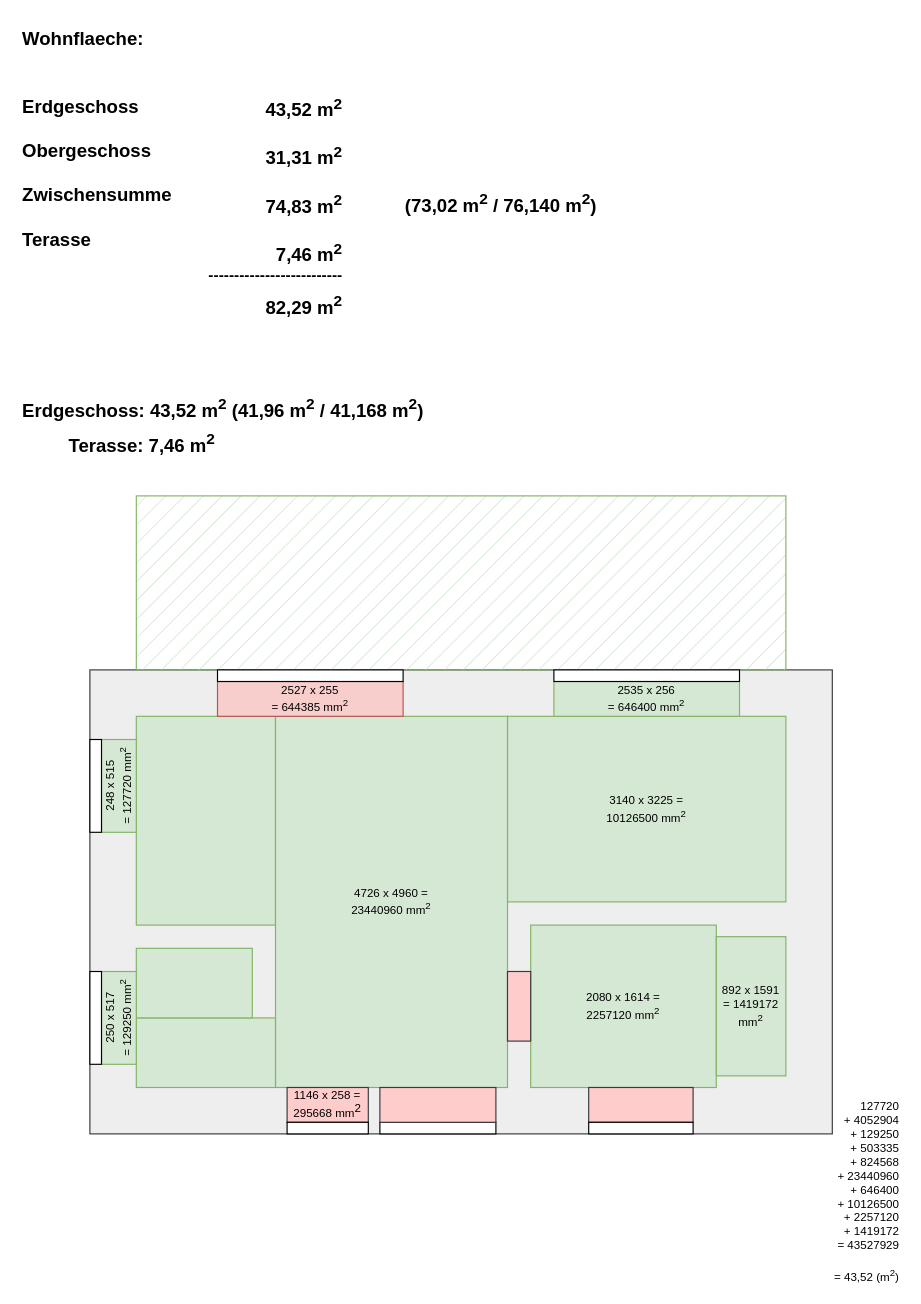
The diagram is 921 pixels wide and 1304 high, and some of its shapes have lost their labels. The shapes that lost their labels are listed below. From the top down, each one's centre as x and y in pixels, then its label:
At (460,582): "8650 x 3450 = 29842500 mm 2 davon 25% sind 7460625 mm 2".
At (205,820): "1128 x 3593 = 4052904 mm 2".
At (193,982): "985 x 511 = 503335 mm 2".
At (205,1052): "1128 x 731 = 824568 mm 2".
